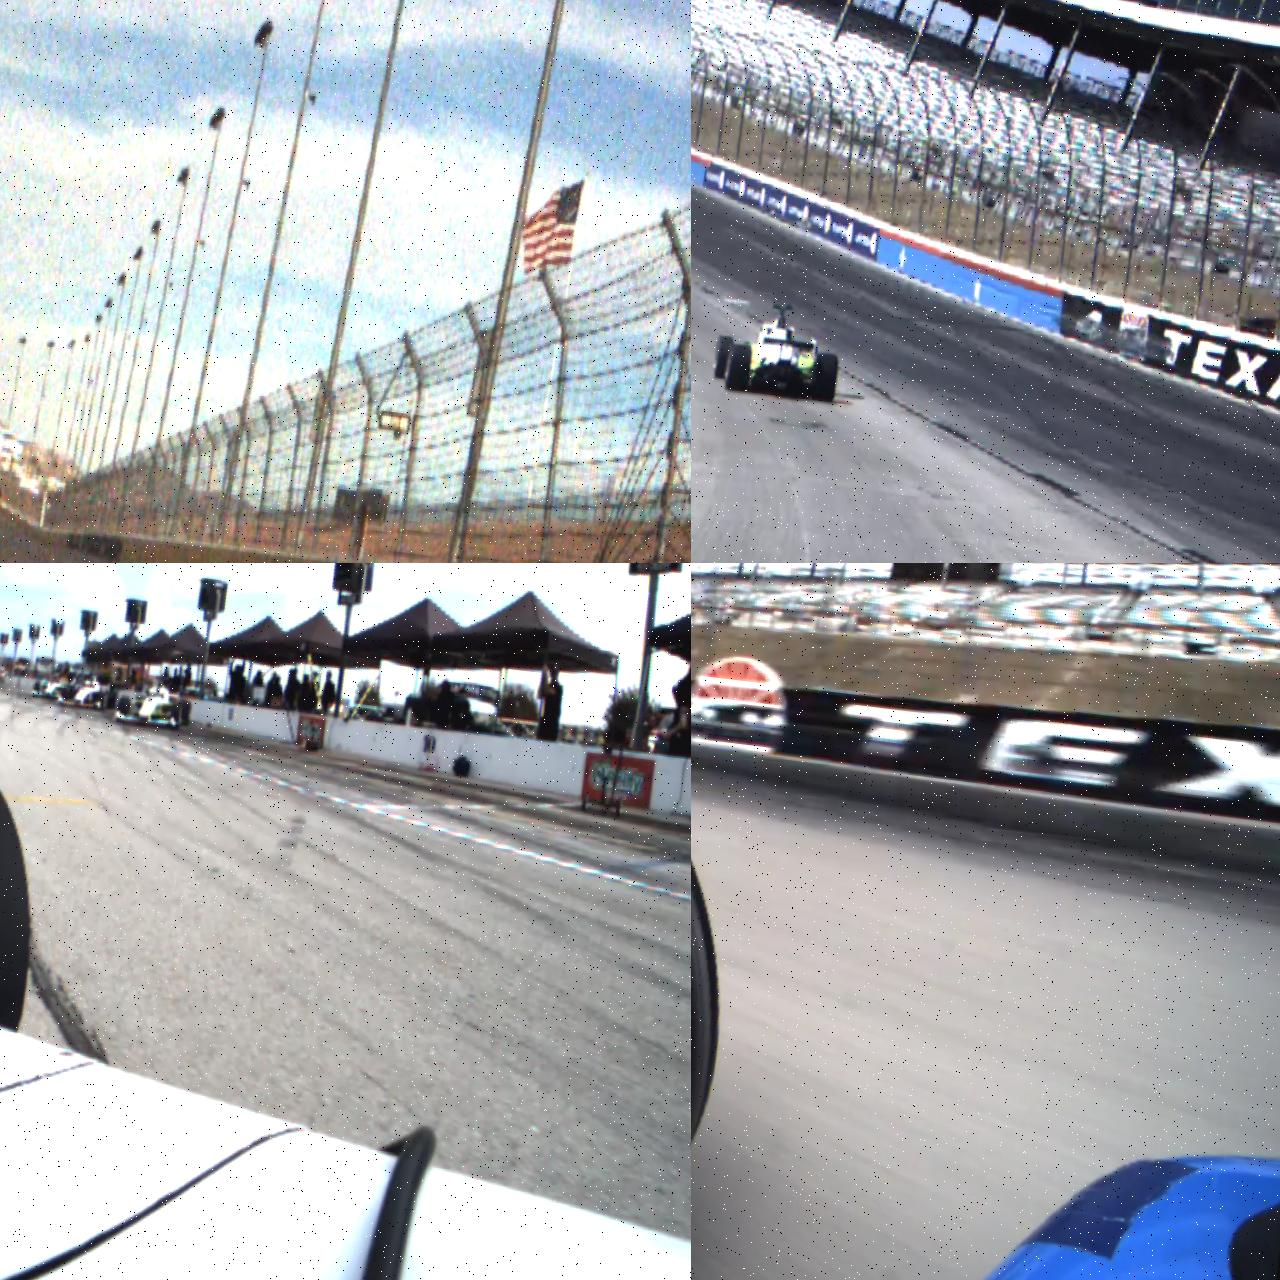AV: (710, 296, 846, 404), (114, 672, 195, 732), (59, 670, 119, 715)
Wheel: (724, 343, 754, 393), (812, 352, 839, 404), (711, 336, 734, 382), (116, 695, 131, 722), (170, 704, 182, 730), (180, 701, 192, 726), (96, 690, 108, 710)
